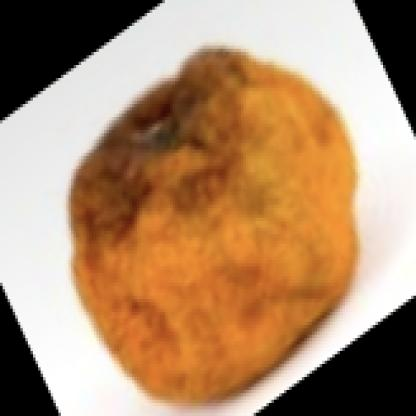rotten: (69, 47, 357, 406)
